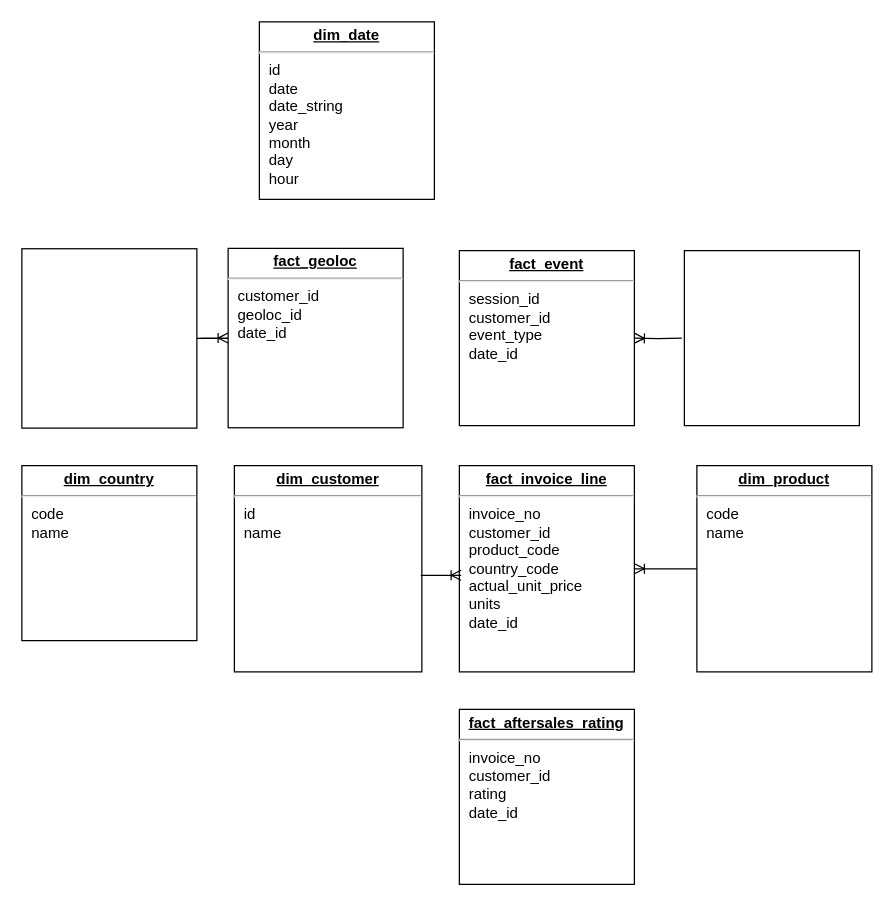
Some shapes in this 894 by 906 pixel diagram are drawn without their labels. The shapes that lost their labels are listed below. From the top down, each one's box as (x1, y1, x2, y2) in pixels, then its label:
(21, 248, 197, 428): dim_geoloc id latitude longitude country_code
(683, 249, 859, 426): dim_session id first_request_date_id last_request_date_id duration
